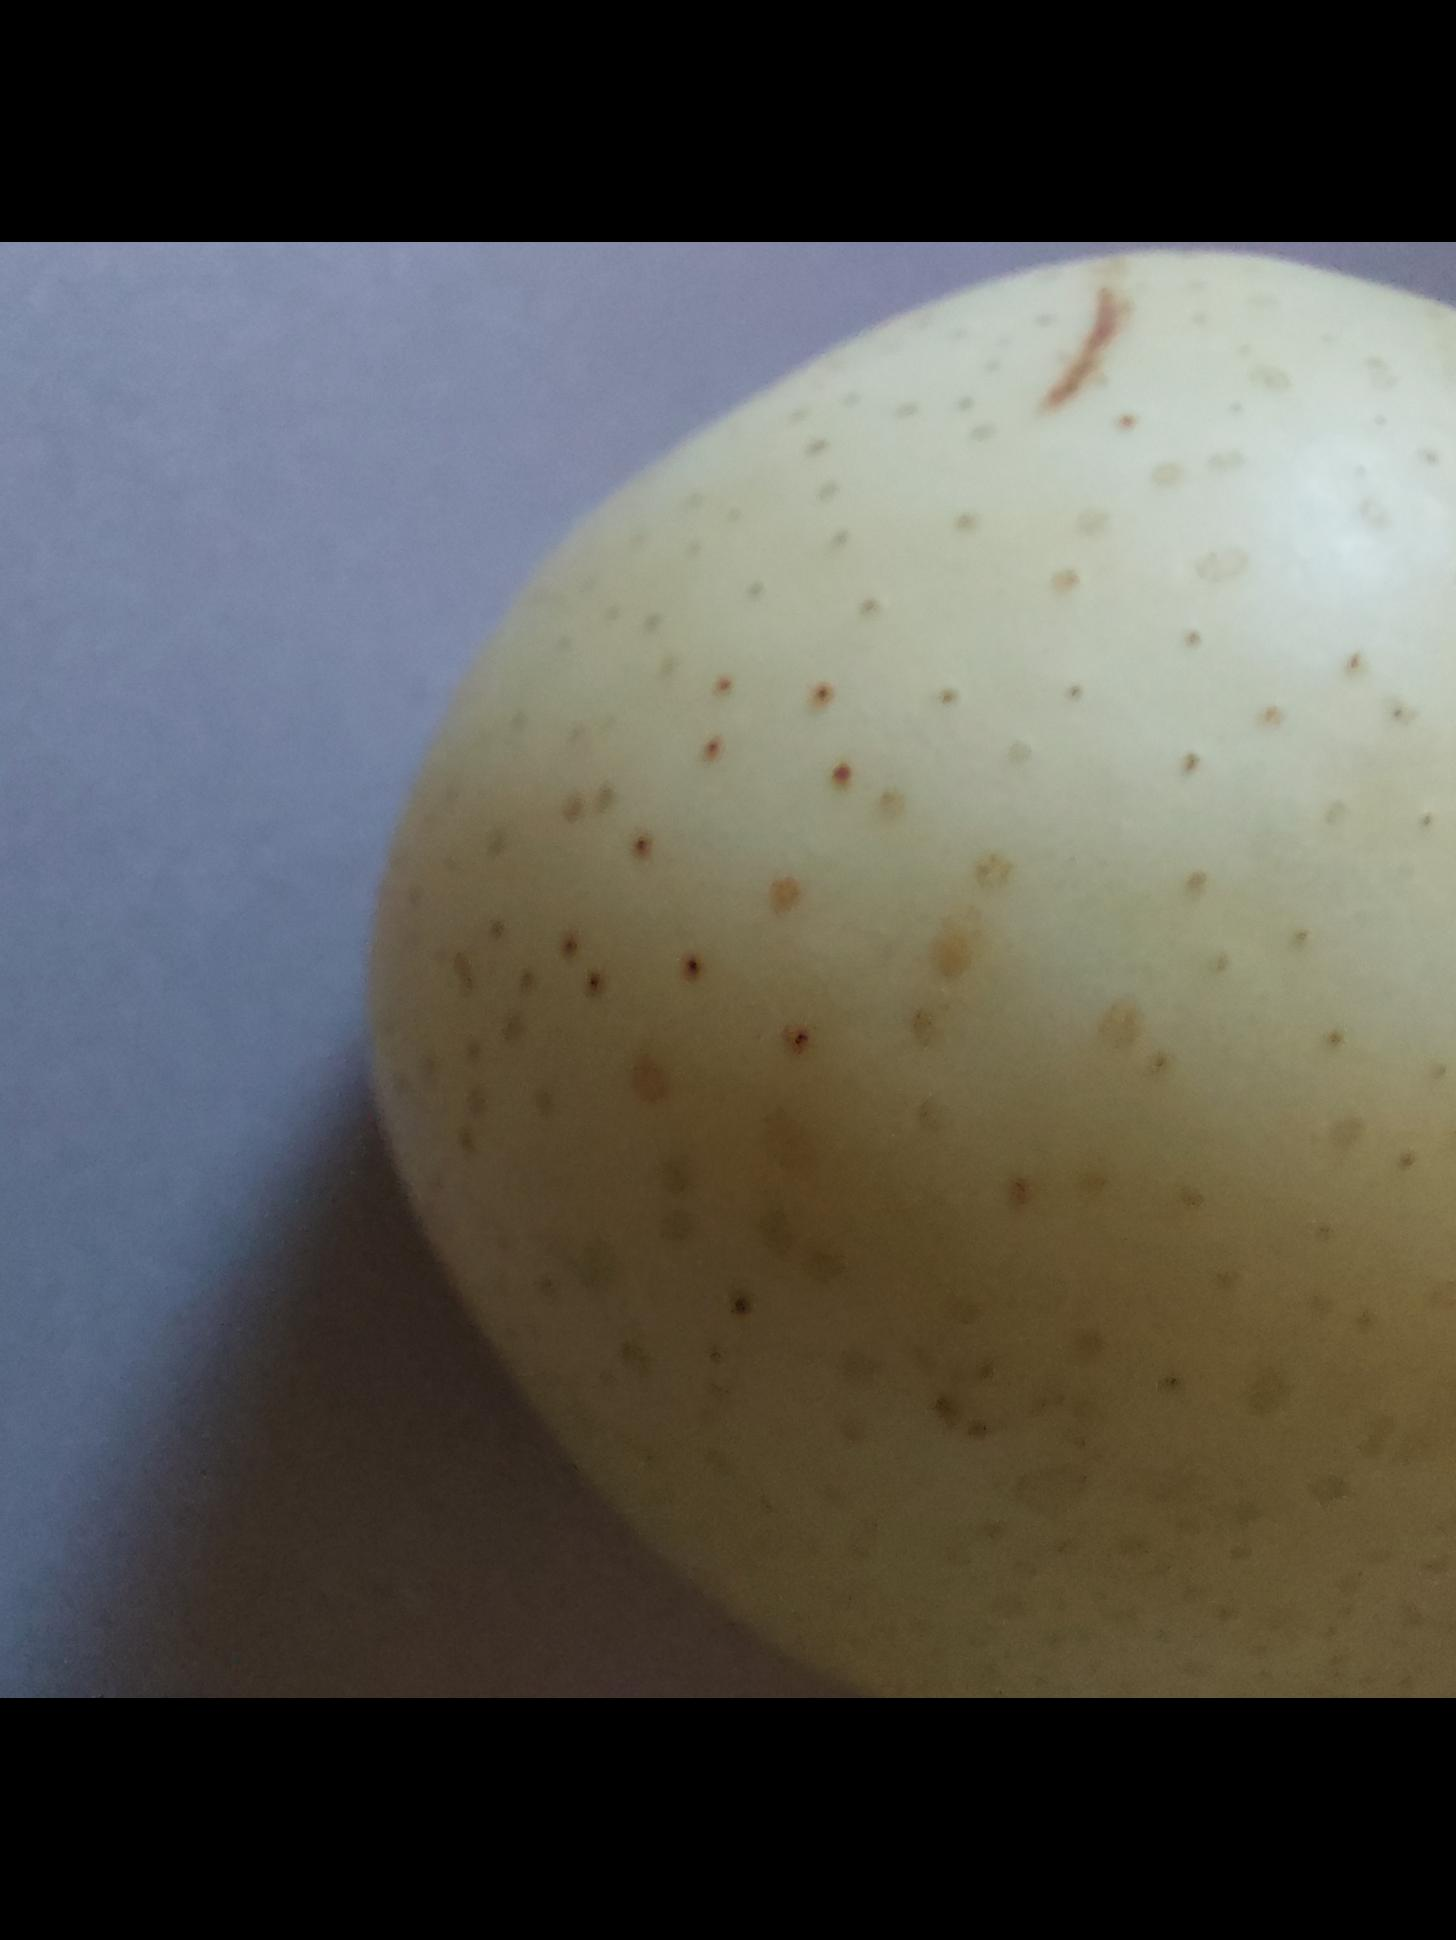Good Pear: (350, 242, 1456, 1698)
